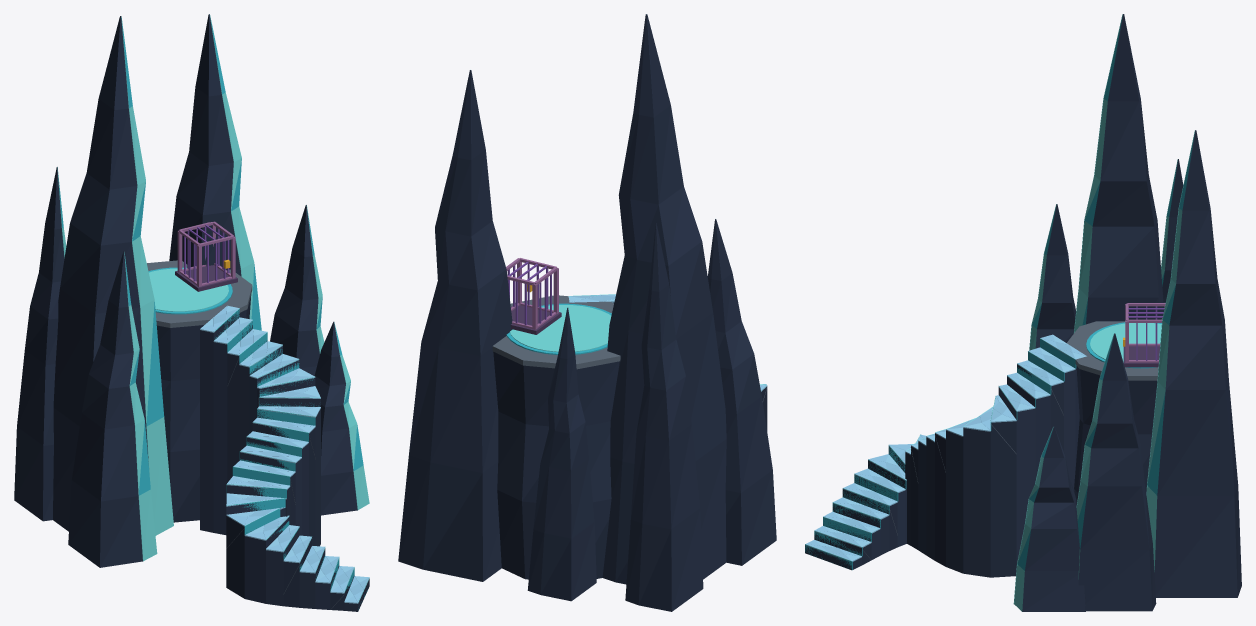
File: building.glb
3 renders of one model, left to right at view 1: azimuth 30°, elevation 25°; view 2: azimuth 150°, elevation 25°; view 3: azimuth 270°, elevation 25°, orthographic. The views are drawn at different scales.
Parts seen in each view (by area): view 1: Building_Tartarus_FoldedSpireCluster, Building_Tartarus_SupportedSwitchbackStair, Building_Tartarus_Summit, Building_Tartarus_Cage; view 2: Building_Tartarus_FoldedSpireCluster, Building_Tartarus_Summit, Building_Tartarus_Cage, Building_Tartarus_SupportedSwitchbackStair; view 3: Building_Tartarus_FoldedSpireCluster, Building_Tartarus_SupportedSwitchbackStair, Building_Tartarus_Summit, Building_Tartarus_Cage.
Part boxes in pixels (x1,y1,x2,y2): Building_Tartarus_FoldedSpireCluster: (14, 14, 369, 567); Building_Tartarus_SupportedSwitchbackStair: (200, 305, 369, 611); Building_Tartarus_Summit: (147, 260, 252, 522); Building_Tartarus_Cage: (175, 221, 237, 291); Building_Tartarus_FoldedSpireCluster: (398, 14, 776, 611); Building_Tartarus_Summit: (492, 295, 620, 579); Building_Tartarus_Cage: (506, 258, 561, 334); Building_Tartarus_SupportedSwitchbackStair: (568, 294, 767, 430); Building_Tartarus_FoldedSpireCluster: (1013, 14, 1241, 611); Building_Tartarus_SupportedSwitchbackStair: (805, 334, 1086, 577); Building_Tartarus_Summit: (1067, 318, 1162, 503); Building_Tartarus_Cage: (1123, 303, 1165, 367).
Size of the model in its own units: 1.08 by 1.91 by 1.51.
